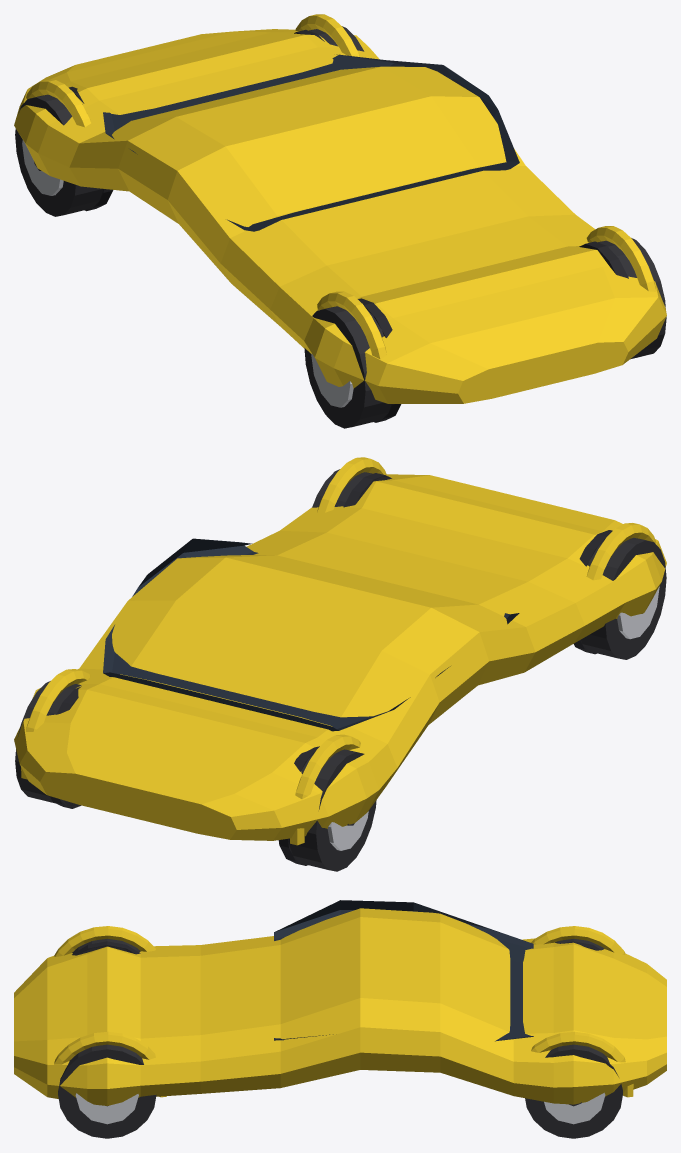
File: taxi.glb
3 views of the same model, one above another, from view 1: azimuth 30°, elevation 25°; view 2: azimuth 150°, elevation 25°; view 3: azimuth 270°, elevation 25° (orthographic). The views are drawn at different scales.
Parts seen in each view (by area): view 1: body, glass_canopy, wheel_front_tyre.001, wheel_rear_tyre.001, body_arch.001, body_arch, wheel_front_tyre, body_arch.003, body_arch.002, wheel_front_rim.001, wheel_rear_rim.001, wheel_front_well.001; view 2: body, glass_canopy, wheel_front_tyre.001, wheel_rear_tyre.001, body_arch.003, body_arch.002, body_arch.001, body_arch, wheel_rear_tyre, wheel_front_rim.001, wheel_rear_rim.001, wheel_front_tyre; view 3: body, glass_canopy, wheel_front_tyre, wheel_rear_tyre, body_arch, body_arch.001, body_arch.002, body_arch.003, wheel_front_rim, wheel_rear_rim.
Part boxes in pixels (x1=…): body: x1=14, y1=29, x2=666, y2=403; glass_canopy: x1=103, y1=54, x2=519, y2=231; wheel_front_tyre.001: x1=304, y1=306, x2=391, y2=428; wheel_rear_tyre.001: x1=15, y1=94, x2=103, y2=216; body_arch.001: x1=317, y1=291, x2=386, y2=359; body_arch: x1=586, y1=226, x2=656, y2=291; wheel_front_tyre: x1=590, y1=238, x2=666, y2=359; body_arch.003: x1=26, y1=80, x2=90, y2=127; body_arch.002: x1=295, y1=14, x2=359, y2=56; wheel_front_rim.001: x1=311, y1=353, x2=353, y2=407; wheel_rear_rim.001: x1=22, y1=140, x2=63, y2=195; wheel_front_well.001: x1=358, y1=298, x2=401, y2=422; body: x1=14, y1=474, x2=666, y2=840; glass_canopy: x1=103, y1=538, x2=519, y2=731; wheel_front_tyre.001: x1=581, y1=537, x2=666, y2=659; wheel_rear_tyre.001: x1=288, y1=749, x2=376, y2=871; body_arch.003: x1=290, y1=734, x2=360, y2=845; body_arch.002: x1=21, y1=669, x2=90, y2=779; body_arch.001: x1=586, y1=523, x2=656, y2=580; body_arch: x1=317, y1=457, x2=386, y2=512; wheel_rear_tyre: x1=15, y1=681, x2=81, y2=807; wheel_front_rim.001: x1=617, y1=586, x2=659, y2=639; wheel_rear_rim.001: x1=327, y1=811, x2=368, y2=850; wheel_front_tyre: x1=312, y1=469, x2=391, y2=507; body: x1=14, y1=908, x2=666, y2=1105; glass_canopy: x1=274, y1=900, x2=533, y2=1041; wheel_front_tyre: x1=58, y1=1044, x2=156, y2=1138; wheel_rear_tyre: x1=525, y1=1044, x2=622, y2=1138; body_arch: x1=54, y1=1031, x2=166, y2=1097; body_arch.001: x1=54, y1=926, x2=155, y2=956; body_arch.002: x1=531, y1=1031, x2=633, y2=1097; body_arch.003: x1=531, y1=926, x2=625, y2=954; wheel_front_rim: x1=75, y1=1093, x2=138, y2=1124; wheel_rear_rim: x1=544, y1=1092, x2=605, y2=1124.
Bounding box in the file's own units: 2.12 × 0.9466 × 4.36.
